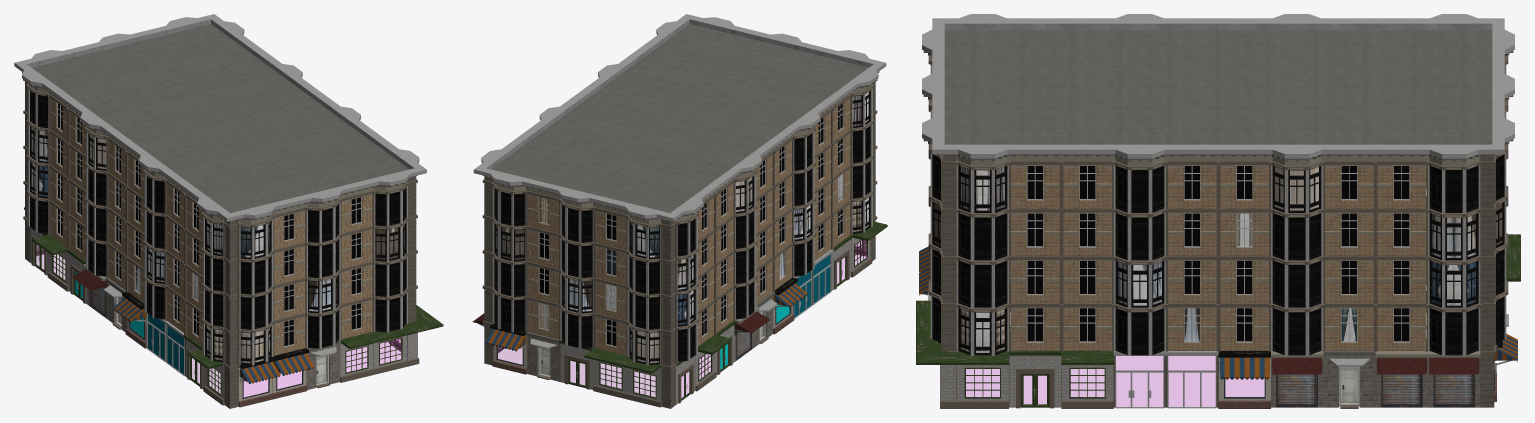
Rendered from Building04.fbx.
3 renders of one model, left to right at view 1: azimuth 30°, elevation 25°; view 2: azimuth 150°, elevation 25°; view 3: azimuth 270°, elevation 25°, orthographic. The views are drawn at different scales.
Visible parts, largest first — view 1: Building04; view 2: Building04; view 3: Building04.
Boxes of the visible parts, x1,y1,x2,y2 form: Building04: (14, 14, 443, 408); Building04: (472, 14, 887, 408); Building04: (916, 14, 1520, 408).
Bounding box in the file's own units: 1973 × 1660 × 3467.
